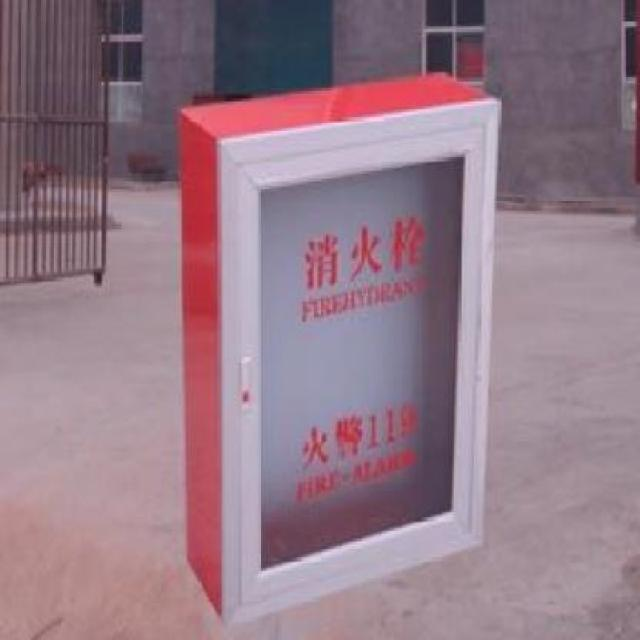firehydrant: (174, 68, 504, 634)
